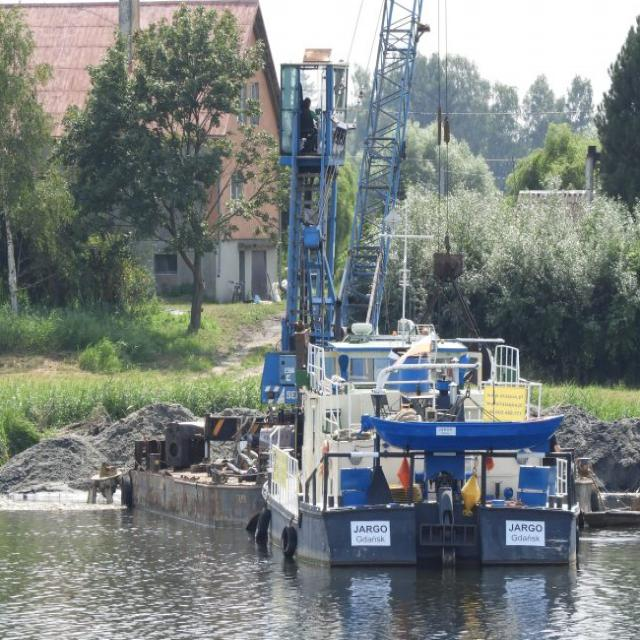tugboat: (250, 43, 593, 584)
